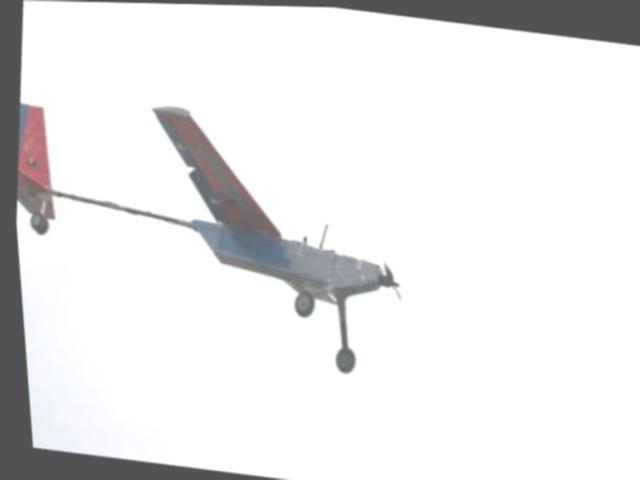uav: (5, 82, 421, 381)
